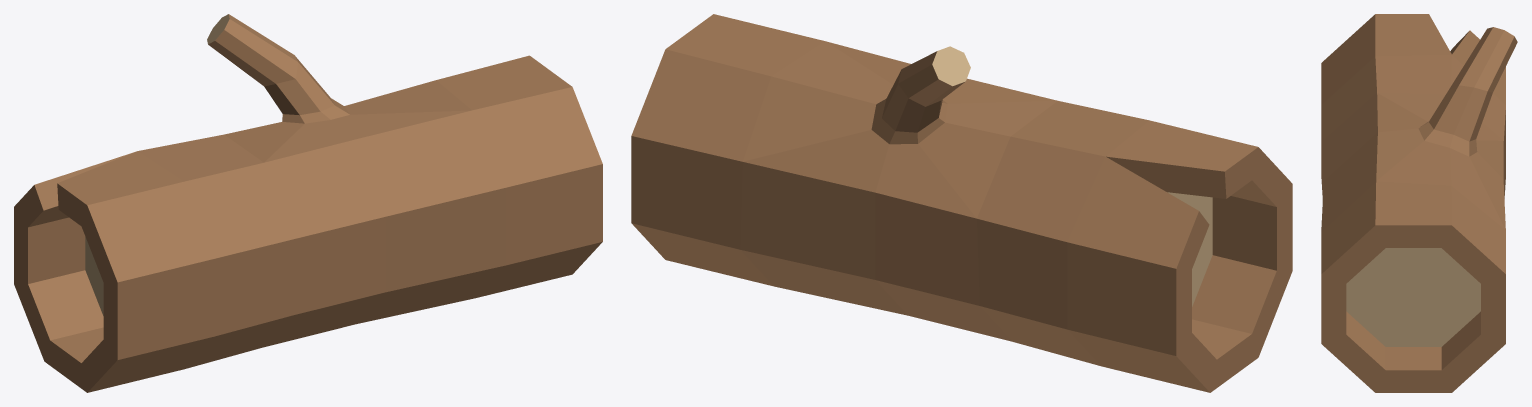
File: WoodenLog.fbx
The picture shows the model from 3 angles, left to right: view 1: azimuth 30°, elevation 25°; view 2: azimuth 150°, elevation 25°; view 3: azimuth 270°, elevation 25°; orthographic projection. The views are drawn at different scales.
Parts seen in each view (by area): view 1: WoodenLog; view 2: WoodenLog; view 3: WoodenLog.
Part boxes in pixels (left/top/right/bottom): WoodenLog: left=14, top=14, right=602, bottom=392; WoodenLog: left=631, top=14, right=1292, bottom=392; WoodenLog: left=1321, top=14, right=1517, bottom=392.
Bounding box in the file's own units: 2 × 1.08 × 0.7856.
